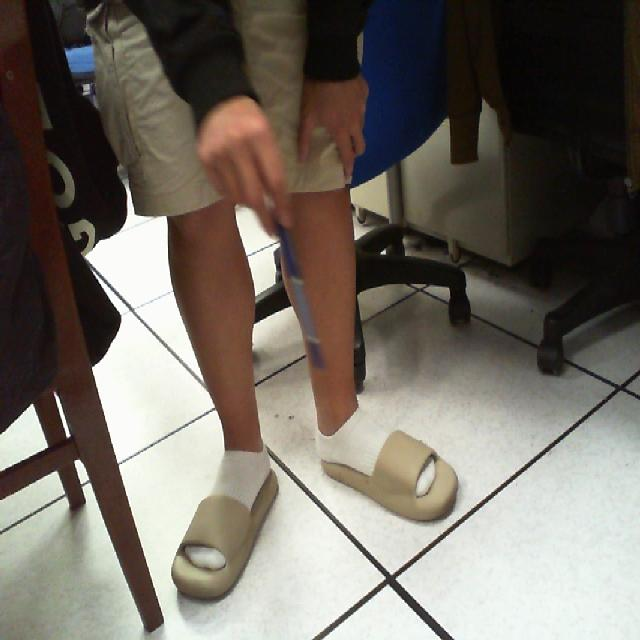Pen: (244, 188, 352, 414)
